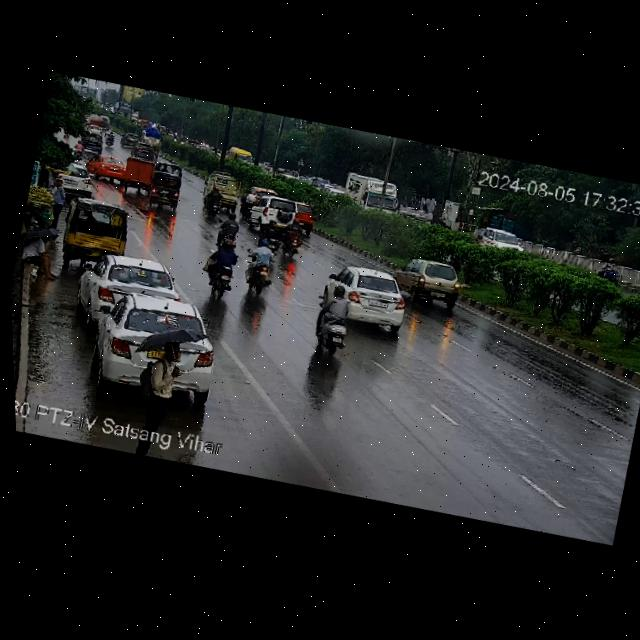bus: (112, 101, 135, 122)
car: (75, 284, 226, 416), (76, 245, 192, 326), (319, 258, 421, 334), (62, 195, 138, 265), (394, 254, 477, 314), (246, 191, 297, 238), (471, 220, 525, 256), (50, 159, 97, 197), (144, 172, 187, 213), (120, 158, 154, 192), (89, 153, 127, 181), (290, 199, 318, 233), (153, 158, 183, 179), (129, 140, 157, 162), (81, 132, 106, 154), (255, 184, 281, 198), (120, 132, 139, 150)
motorcycle: (310, 290, 364, 357), (198, 237, 245, 300), (238, 240, 284, 295), (277, 219, 315, 260), (215, 214, 247, 245), (204, 186, 234, 219), (594, 253, 623, 285), (259, 217, 284, 251), (236, 184, 256, 215), (72, 139, 86, 160), (473, 231, 488, 247), (103, 129, 116, 147)
person: (132, 341, 193, 428), (17, 231, 65, 282), (41, 176, 72, 231)
truck: (340, 170, 402, 217), (200, 168, 243, 210), (226, 146, 258, 169), (138, 126, 164, 149)
